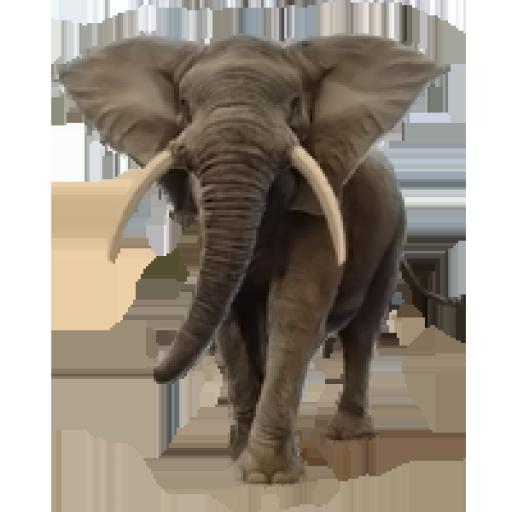Elephant: (45, 14, 480, 499)
